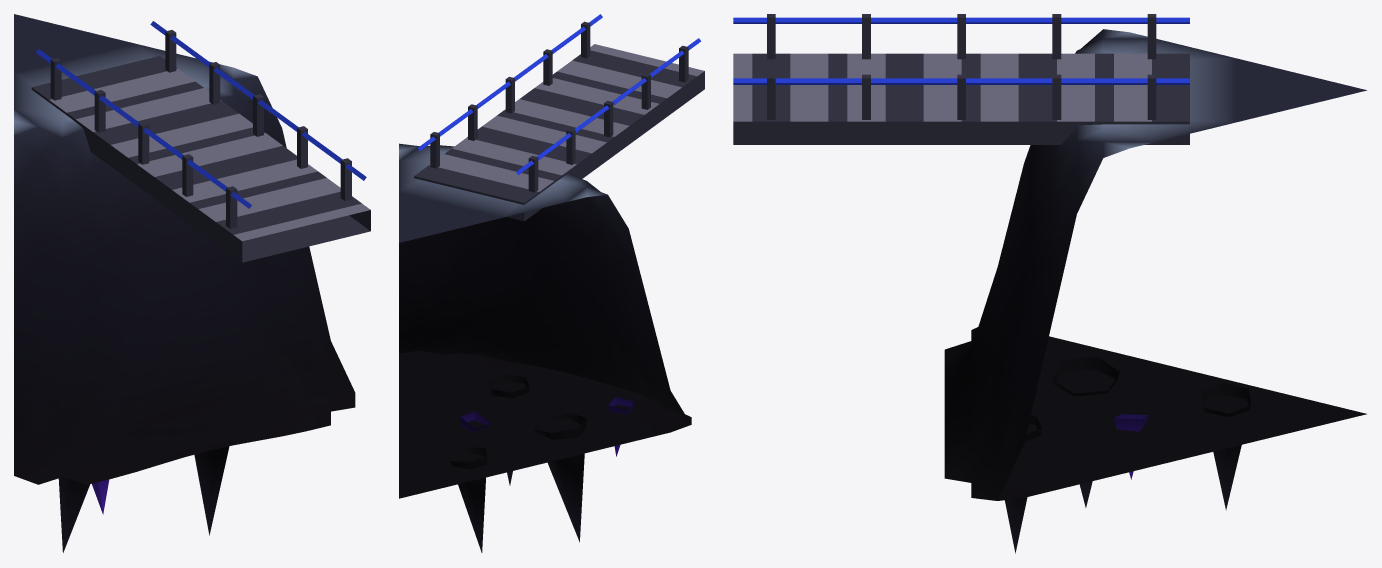
The model's file is MODULE_HOLLOW_BRIDGEHEAD.fbx.
3 views of the same model, side by side, from view 1: azimuth 30°, elevation 25°; view 2: azimuth 150°, elevation 25°; view 3: azimuth 270°, elevation 25° (orthographic). The views are drawn at different scales.
Visible parts, largest first — view 1: MODULE_HOLLOW_BRIDGEHEAD__export, MODULE_HOLLOW_BRIDGEHEAD_DECOR__export; view 2: MODULE_HOLLOW_BRIDGEHEAD__export, MODULE_HOLLOW_BRIDGEHEAD_DECOR__export; view 3: MODULE_HOLLOW_BRIDGEHEAD__export, MODULE_HOLLOW_BRIDGEHEAD_DECOR__export.
Boxes of the visible parts, left/top/right/bottom form: MODULE_HOLLOW_BRIDGEHEAD__export: left=14, top=14, right=370, bottom=484; MODULE_HOLLOW_BRIDGEHEAD_DECOR__export: left=36, top=21, right=366, bottom=552; MODULE_HOLLOW_BRIDGEHEAD__export: left=399, top=44, right=704, bottom=498; MODULE_HOLLOW_BRIDGEHEAD_DECOR__export: left=418, top=14, right=700, bottom=552; MODULE_HOLLOW_BRIDGEHEAD__export: left=733, top=29, right=1366, bottom=500; MODULE_HOLLOW_BRIDGEHEAD_DECOR__export: left=733, top=14, right=1251, bottom=553.
Bounding box in the file's own units: 58.33 × 76.09 × 86.6.
